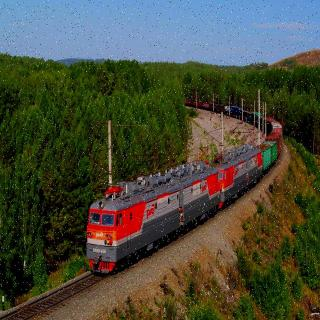poezd: (90, 150, 263, 271)
